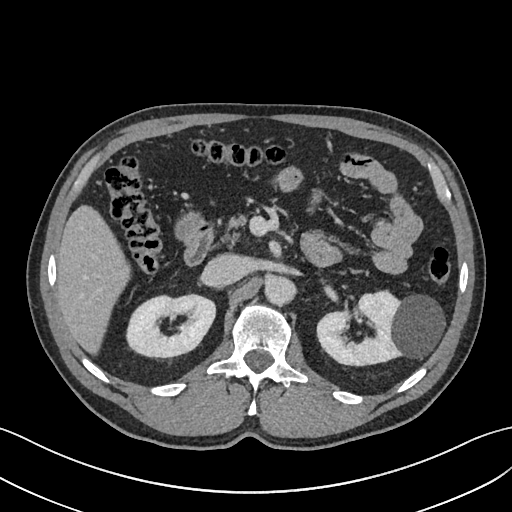Lesion: (390, 285, 449, 363)
